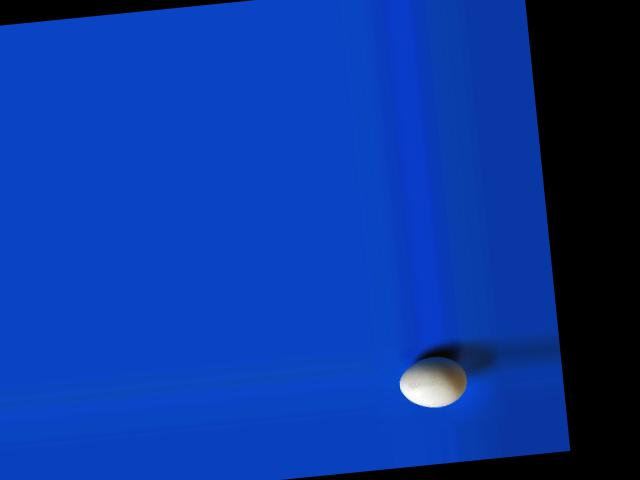egg: (396, 353, 470, 410)
